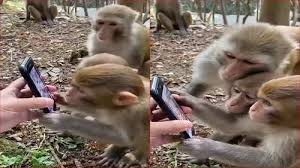monkey: (35, 45, 152, 159), (71, 5, 158, 80)
